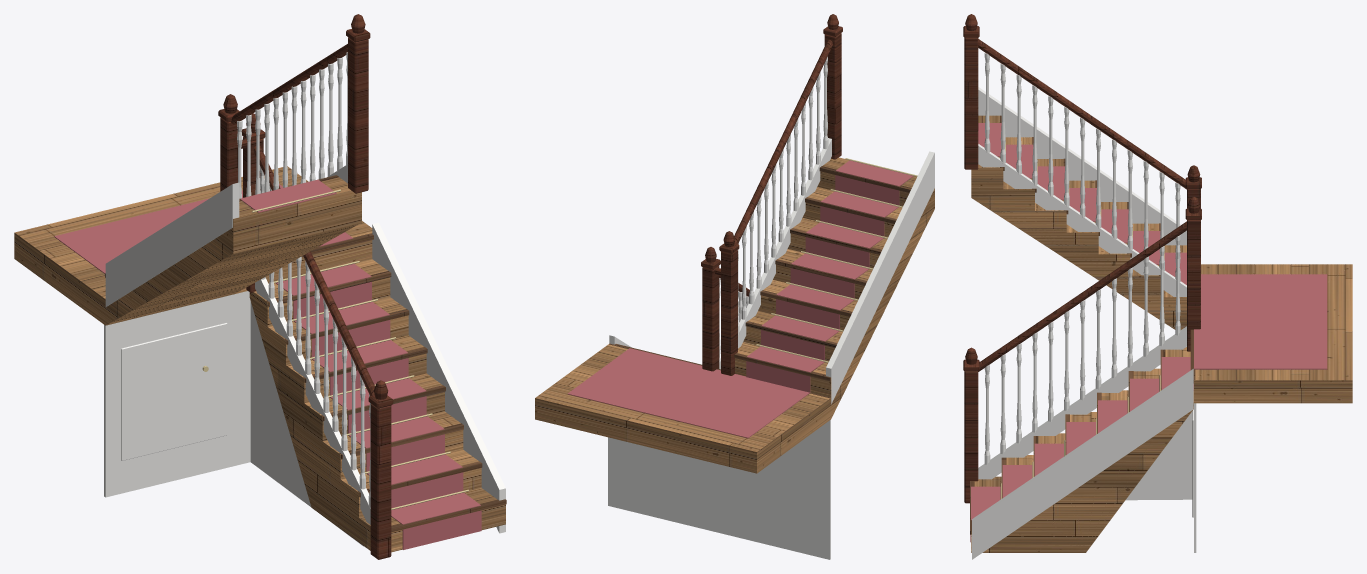
File: stair_0_r.glb
The picture shows the model from 3 angles, left to right: view 1: azimuth 30°, elevation 25°; view 2: azimuth 150°, elevation 25°; view 3: azimuth 270°, elevation 25°; orthographic projection. The views are drawn at different scales.
Parts seen in each view (by area): view 1: stair_0_r_trim, stair_0_r_wood, stair_0_r_carpet_r, stair_0_r_mahog, stair_0_r_dkwood, stair_0_r_brass; view 2: stair_0_r_trim, stair_0_r_carpet_r, stair_0_r_wood, stair_0_r_mahog, stair_0_r_dkwood, stair_0_r_brass; view 3: stair_0_r_trim, stair_0_r_wood, stair_0_r_carpet_r, stair_0_r_mahog, stair_0_r_dkwood.
Part boxes in pixels (x1,y1,x2,y2): stair_0_r_trim: (104, 52, 505, 546); stair_0_r_wood: (14, 166, 505, 552); stair_0_r_carpet_r: (54, 179, 481, 549); stair_0_r_mahog: (218, 14, 393, 559); stair_0_r_dkwood: (105, 175, 506, 532); stair_0_r_brass: (202, 189, 468, 509); stair_0_r_trim: (608, 56, 934, 559); stair_0_r_carpet_r: (567, 160, 913, 438); stair_0_r_wood: (535, 157, 934, 473); stair_0_r_mahog: (701, 14, 842, 375); stair_0_r_dkwood: (609, 166, 911, 398); stair_0_r_brass: (756, 158, 917, 362); stair_0_r_trim: (972, 52, 1196, 559); stair_0_r_wood: (971, 115, 1352, 552); stair_0_r_carpet_r: (970, 123, 1327, 542); stair_0_r_mahog: (963, 14, 1201, 503); stair_0_r_dkwood: (970, 115, 1195, 534).
Size of the model in its own units: 2.16 by 4.19 by 3.06.
Materials: 6 (3 with a texture image).
